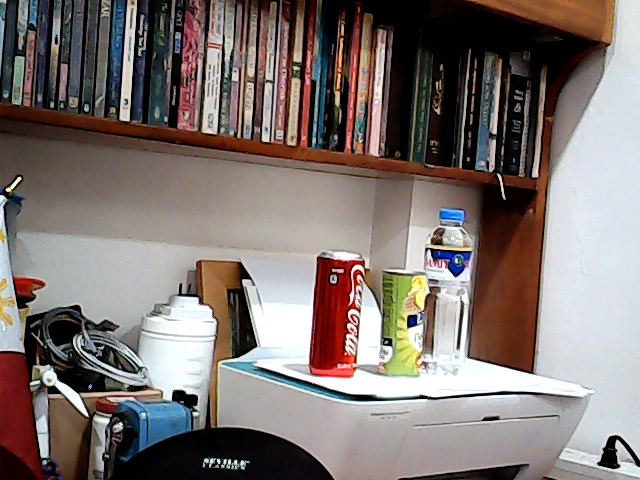Cola: (309, 251, 365, 381)
Pine Juice: (377, 270, 430, 375)
Summit Water: (424, 206, 473, 365)
